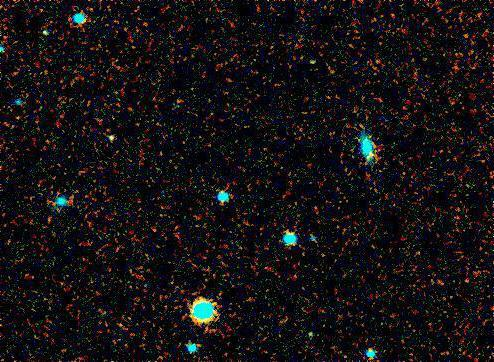star: (299, 45, 329, 75)
